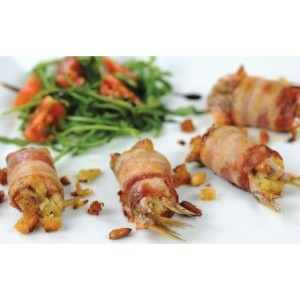sardine_brain food: (226, 73, 288, 187), (117, 144, 182, 231), (11, 140, 55, 234)
